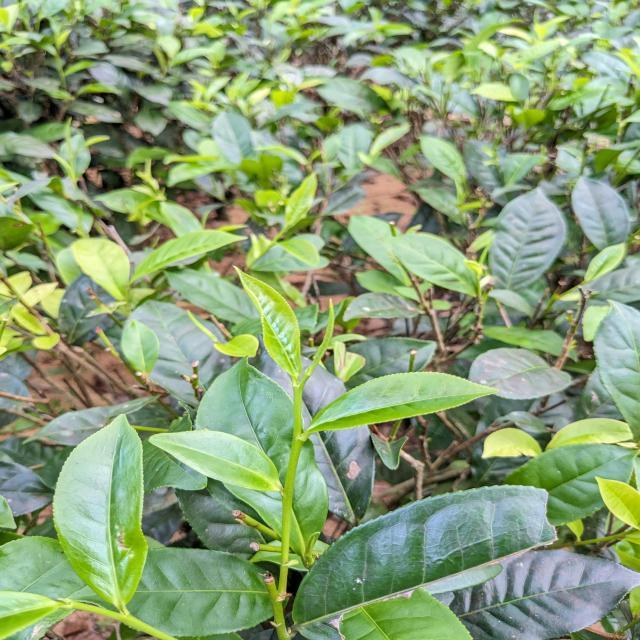Stem: (124, 614, 146, 632), (295, 388, 302, 412)
